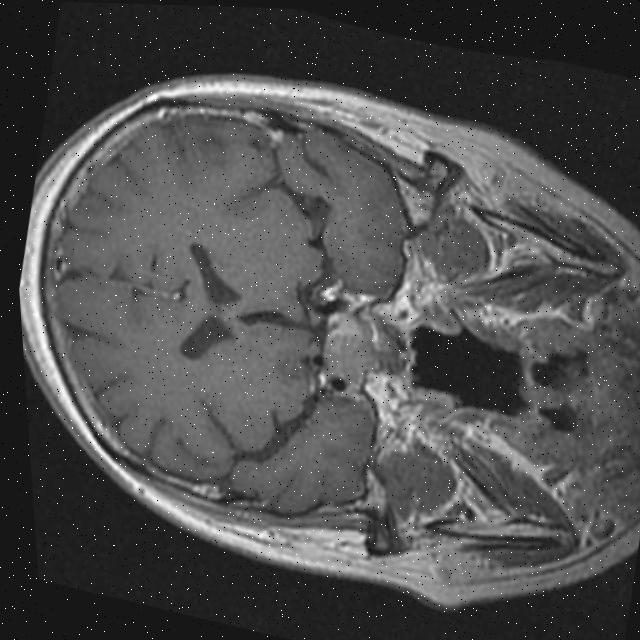Pituitary: (314, 301, 418, 395)
